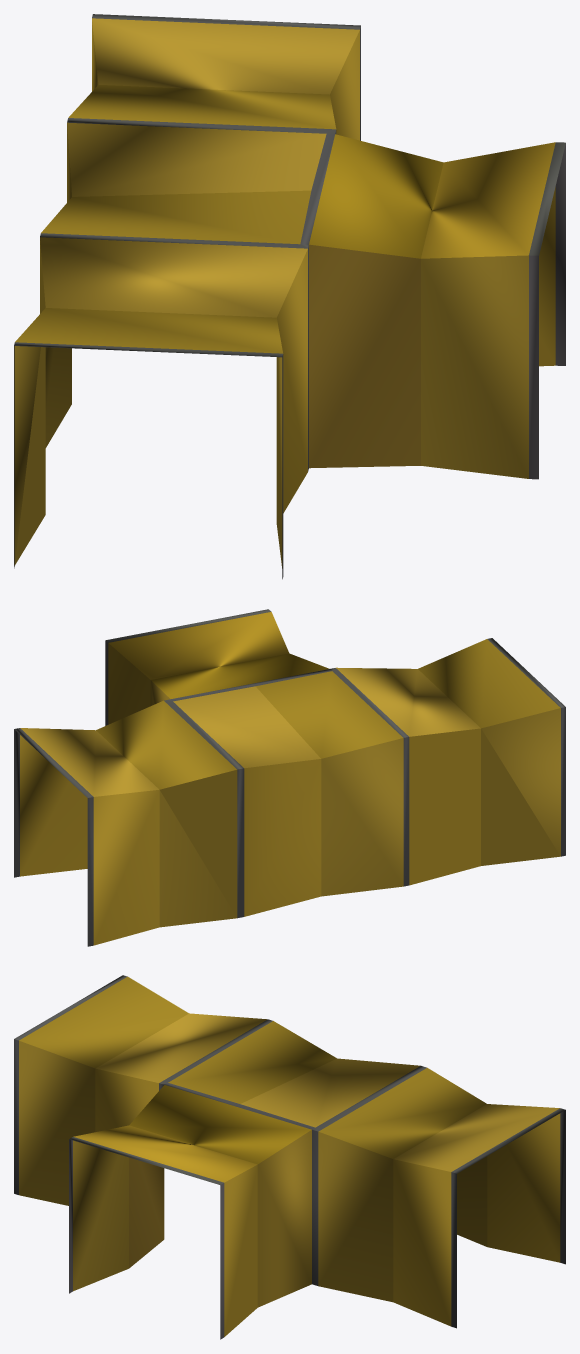
Rendered from apoc_prop.glb.
The picture shows the model from 3 angles, top to bottom: view 1: azimuth 30°, elevation 25°; view 2: azimuth 150°, elevation 25°; view 3: azimuth 270°, elevation 25°; orthographic projection. The views are drawn at different scales.
Visible parts, largest first — view 1: prop_001; view 2: prop_001; view 3: prop_001.
Boxes of the visible parts, x1=… form: prop_001: x1=14, y1=14, x2=565, y2=579; prop_001: x1=14, y1=609, x2=565, y2=946; prop_001: x1=14, y1=975, x2=565, y2=1339.
Bounding box in the file's own units: 1.35 × 0.4629 × 1.5.
Materials: 1 (1 with a texture image).
